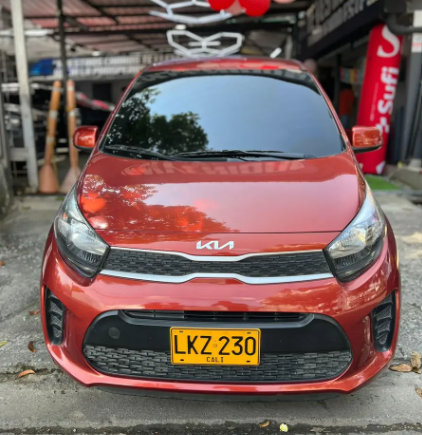placa: (170, 326, 260, 366)
